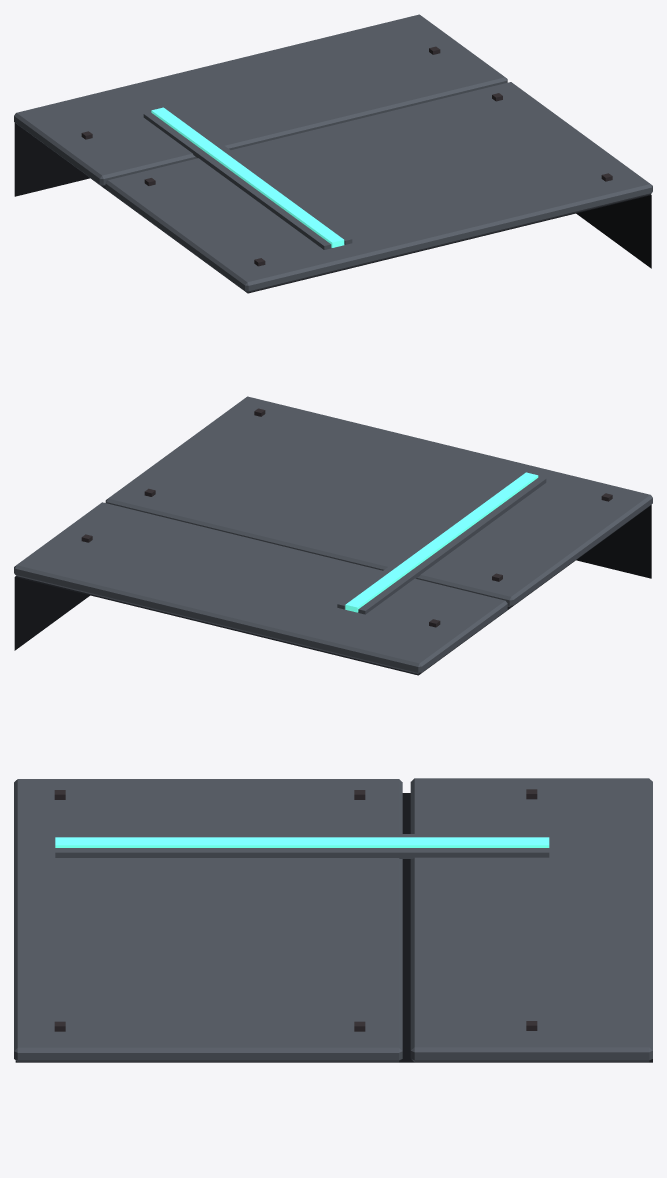
Rendered from SM_Terrain_Dvergr_08_Flat.fbx.
The picture shows the model from 3 angles, top to bottom: view 1: azimuth 30°, elevation 25°; view 2: azimuth 150°, elevation 25°; view 3: azimuth 270°, elevation 25°; orthographic projection. The views are drawn at different scales.
Visible parts, largest first — view 1: SM_Terrain_Dvergr_08_Flat_PlateA, SM_Terrain_Dvergr_08_Flat_PlateB, SM_Terrain_Dvergr_08_Flat_Base, SM_Terrain_Dvergr_08_Flat_Conduit, SM_Terrain_Dvergr_08_Flat_Flank0, SM_Terrain_Dvergr_08_Flat_Flank1; view 2: SM_Terrain_Dvergr_08_Flat_PlateA, SM_Terrain_Dvergr_08_Flat_PlateB, SM_Terrain_Dvergr_08_Flat_Base, SM_Terrain_Dvergr_08_Flat_Conduit, SM_Terrain_Dvergr_08_Flat_Flank0, SM_Terrain_Dvergr_08_Flat_Flank1; view 3: SM_Terrain_Dvergr_08_Flat_PlateA, SM_Terrain_Dvergr_08_Flat_PlateB, SM_Terrain_Dvergr_08_Flat_Conduit, SM_Terrain_Dvergr_08_Flat_Flank1, SM_Terrain_Dvergr_08_Flat_Base, SM_Terrain_Dvergr_08_Flat_Flank0.
Part boxes in pixels (<box>): SM_Terrain_Dvergr_08_Flat_PlateA: <box>105,82,652,292</box>; SM_Terrain_Dvergr_08_Flat_PlateB: <box>14,14,507,186</box>; SM_Terrain_Dvergr_08_Flat_Base: <box>14,123,651,293</box>; SM_Terrain_Dvergr_08_Flat_Conduit: <box>151,107,344,247</box>; SM_Terrain_Dvergr_08_Flat_Flank0: <box>143,112,331,249</box>; SM_Terrain_Dvergr_08_Flat_Flank1: <box>165,107,352,244</box>; SM_Terrain_Dvergr_08_Flat_PlateA: <box>105,396,652,607</box>; SM_Terrain_Dvergr_08_Flat_PlateB: <box>14,502,507,674</box>; SM_Terrain_Dvergr_08_Flat_Base: <box>14,505,651,675</box>; SM_Terrain_Dvergr_08_Flat_Conduit: <box>345,472,538,612</box>; SM_Terrain_Dvergr_08_Flat_Flank0: <box>358,477,546,614</box>; SM_Terrain_Dvergr_08_Flat_Flank1: <box>337,472,524,609</box>; SM_Terrain_Dvergr_08_Flat_PlateA: <box>14,779,402,1062</box>; SM_Terrain_Dvergr_08_Flat_PlateB: <box>410,778,652,1062</box>; SM_Terrain_Dvergr_08_Flat_Conduit: <box>55,837,549,847</box>; SM_Terrain_Dvergr_08_Flat_Flank1: <box>55,848,549,858</box>; SM_Terrain_Dvergr_08_Flat_Base: <box>15,793,652,1062</box>; SM_Terrain_Dvergr_08_Flat_Flank0: <box>55,834,549,837</box>.
Size of the model in its own units: 2.02 by 0.426 by 2.01.
